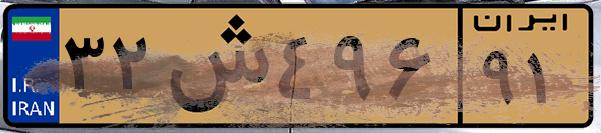1: (525, 38, 570, 115)
2: (110, 28, 158, 98)
3: (57, 26, 110, 100)
4: (270, 28, 330, 110)
6: (385, 28, 445, 110)
9: (330, 28, 385, 110), (475, 38, 525, 113)
ش: (158, 12, 270, 120)
